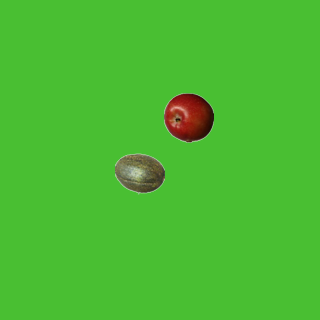Apple Braeburn: (163, 92, 213, 142)
Melon Piel de Sapo: (114, 148, 164, 198)
